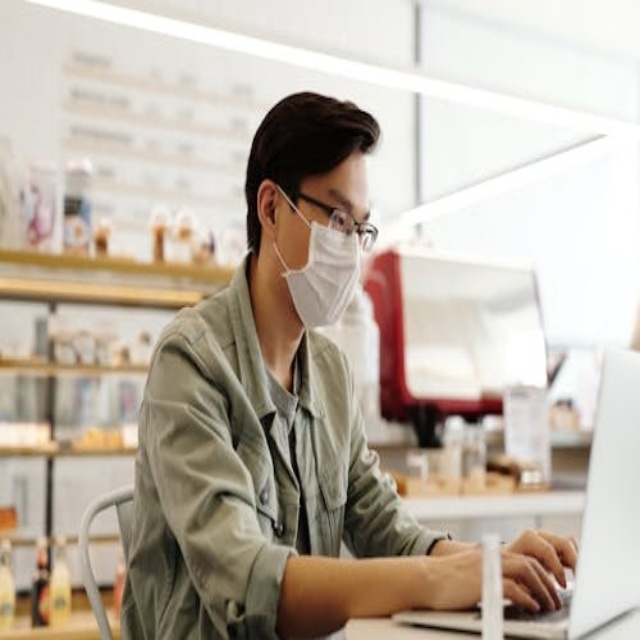Mascara: (280, 213, 374, 338)
Sin_guantes: (504, 527, 577, 597)
